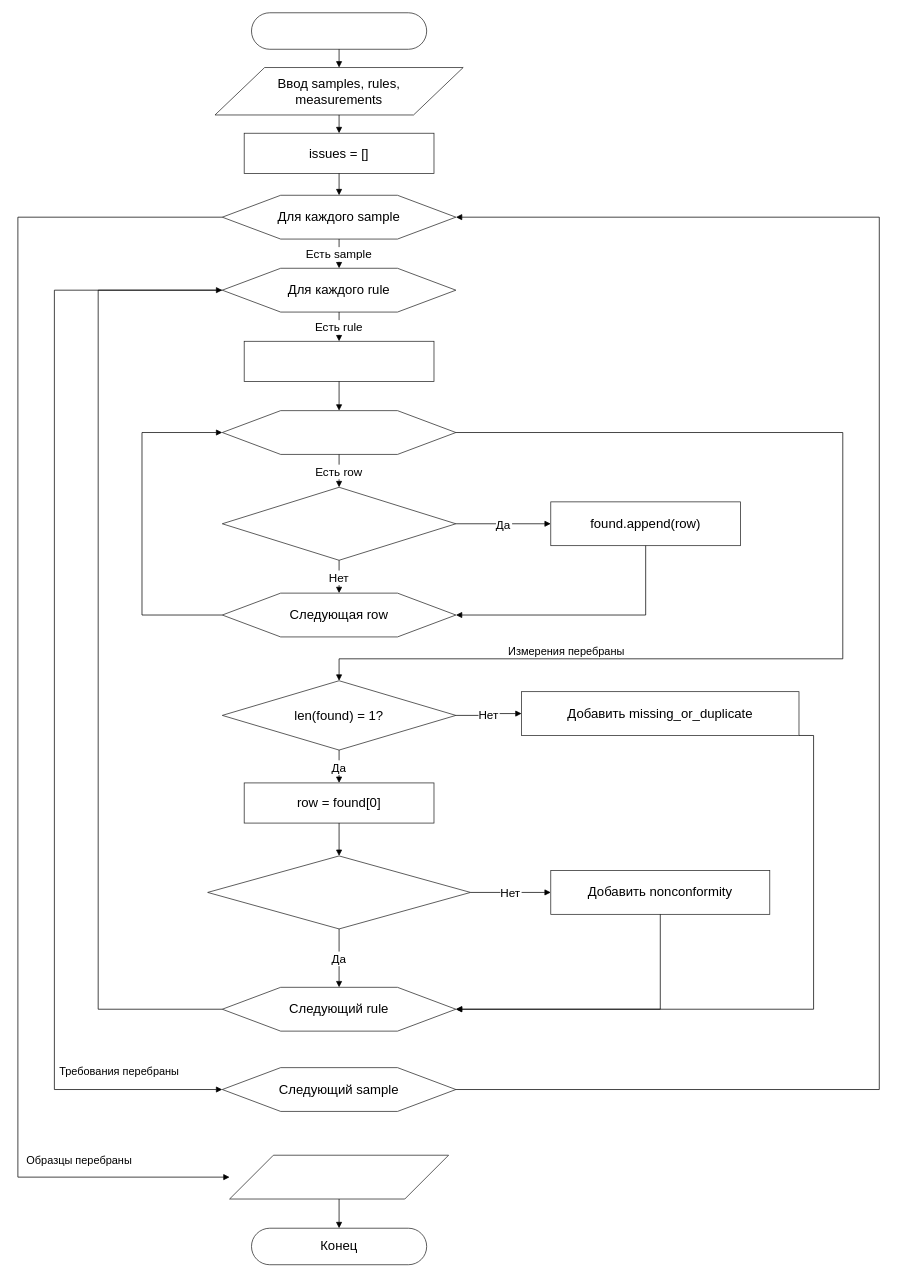
This 898x1278 diagram has some shape labels left out. The shapes that lost their labels are listed below. From the top down, each one's box as (x1, y1, x2, y2) in pixels, then its label:
(251, 12, 427, 49): Начало
(243, 341, 434, 381): found = []
(222, 410, 456, 454): Для каждого row
(222, 487, 456, 560): Пара ключей совпадает?
(207, 855, 470, 929): Единица верна И lower ≤ value ≤ upper?
(229, 1154, 449, 1199): Вывод issues
